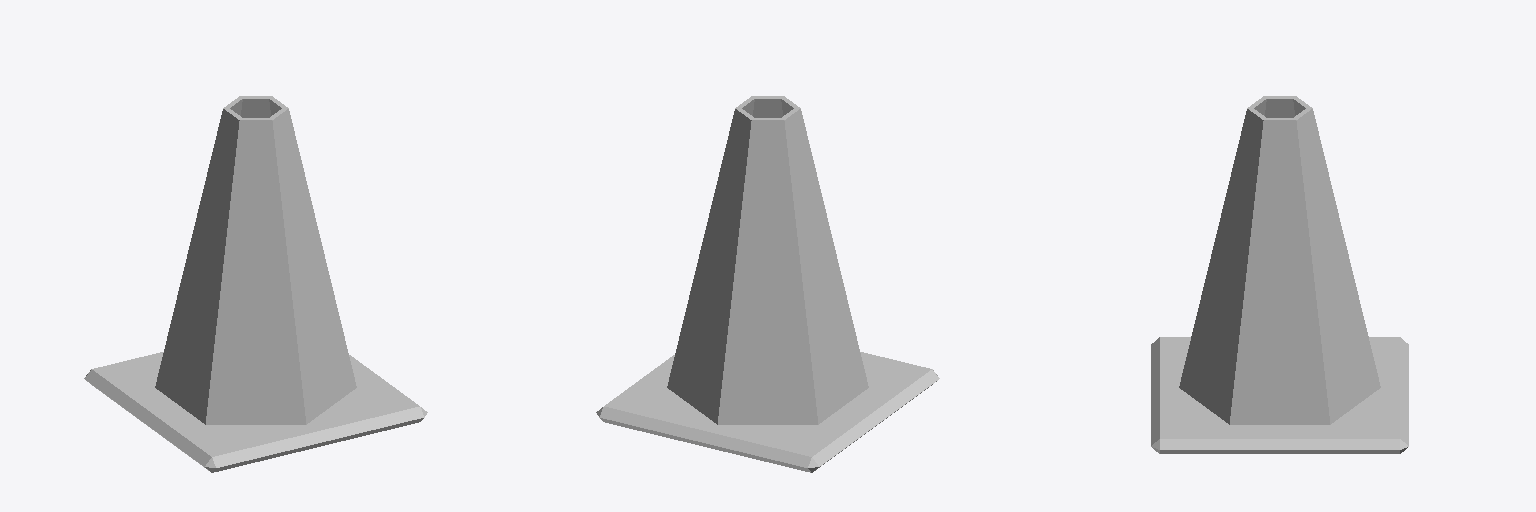
Rendered from TrafficCone.obj.
The picture shows the model from 3 angles: view 1: azimuth 30°, elevation 25°; view 2: azimuth 150°, elevation 25°; view 3: azimuth 270°, elevation 25°; orthographic projection.
Parts seen in each view (by area): view 1: Cone_Cone.001; view 2: Cone_Cone.001; view 3: Cone_Cone.001.
Part boxes in pixels (bbox=[...]): Cone_Cone.001: bbox=[84, 96, 427, 472]; Cone_Cone.001: bbox=[596, 96, 939, 472]; Cone_Cone.001: bbox=[1151, 96, 1408, 453].
Size of the model in its own units: 0.9996 by 1.26 by 0.9996.